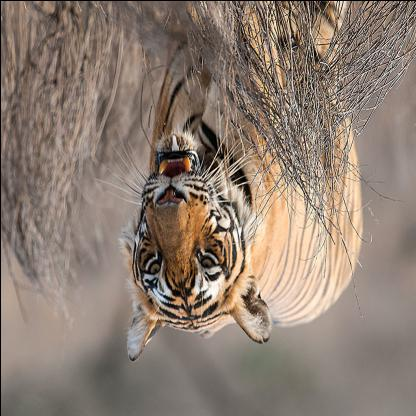tiger: (116, 131, 258, 365)
